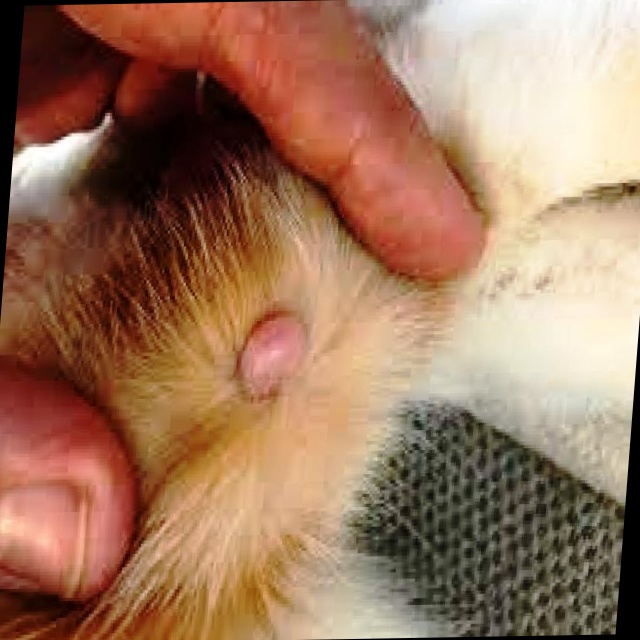lump_and_bump: (232, 314, 311, 398)
